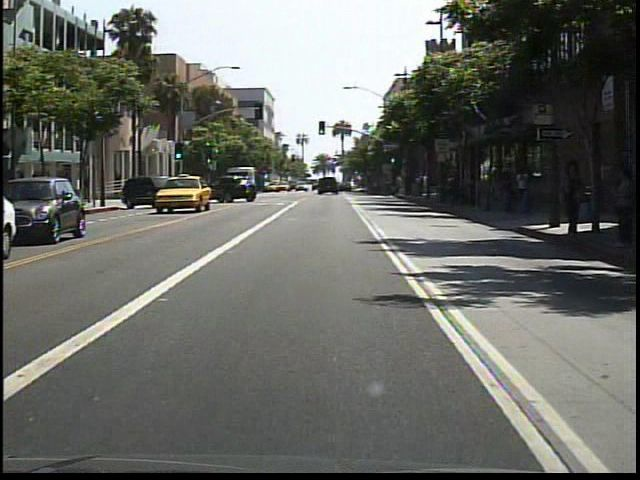person: (602, 163, 638, 246), (555, 156, 587, 241), (511, 166, 531, 212)
